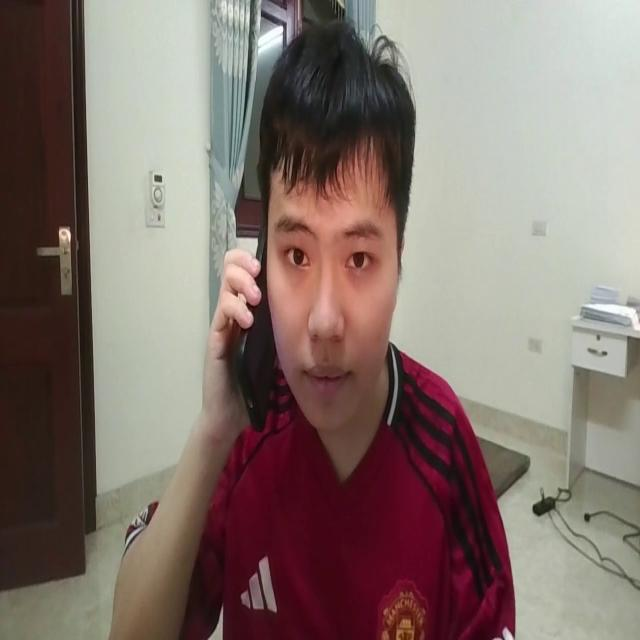phone: (238, 195, 278, 439)
student: (106, 17, 516, 640)
